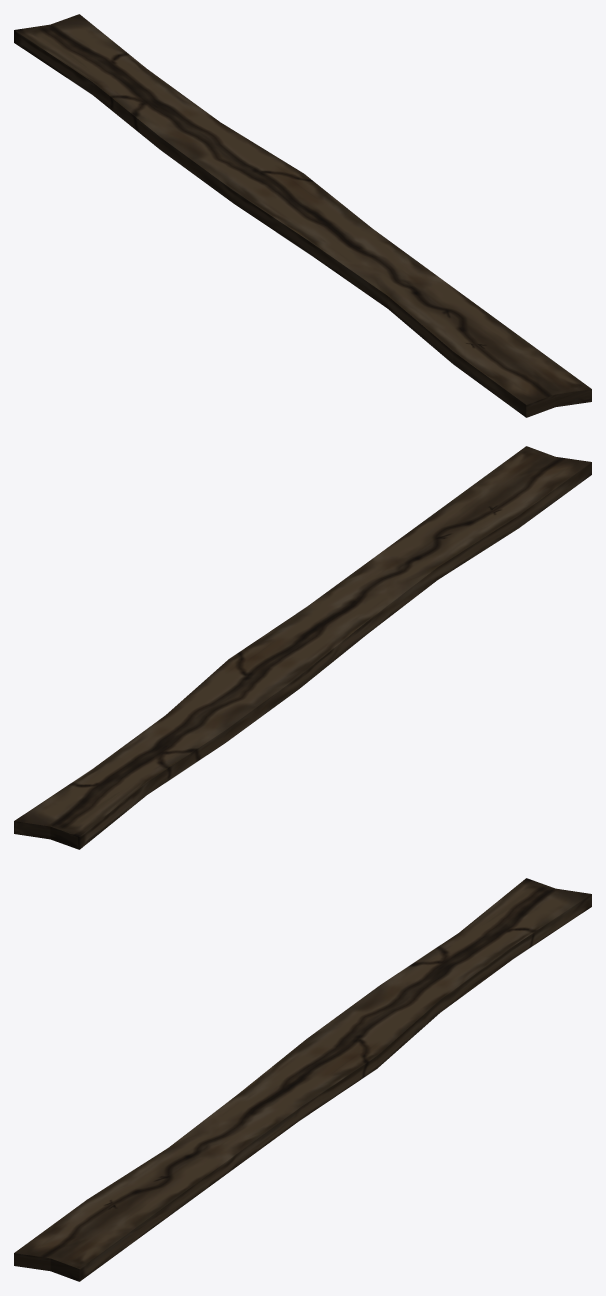
Rendered from Tabua 1.fbx.
3 views of the same model, one above another, from view 1: azimuth 30°, elevation 25°; view 2: azimuth 150°, elevation 25°; view 3: azimuth 330°, elevation 25° (orthographic).
Parts seen in each view (by area): view 1: Tabua; view 2: Tabua; view 3: Tabua.
Boxes of the visible parts, x1,y1,x2,y2 form: Tabua: (14,14,591,417); Tabua: (14,446,591,849); Tabua: (14,878,591,1281).
Bounding box in the file's own units: 77.77 × 13.54 × 980.
